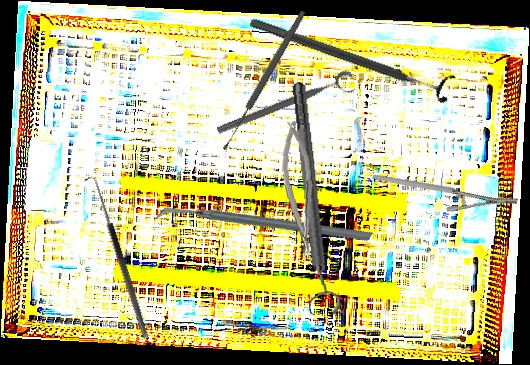Chopper: (154, 131, 374, 321)
Fixation Ring: (245, 6, 457, 107), (282, 80, 343, 318), (214, 68, 359, 146)
Hook Surgical: (82, 174, 151, 342)
Needle Holder: (371, 131, 520, 246), (279, 120, 318, 263)
Surgical Spoon: (219, 9, 308, 152)
